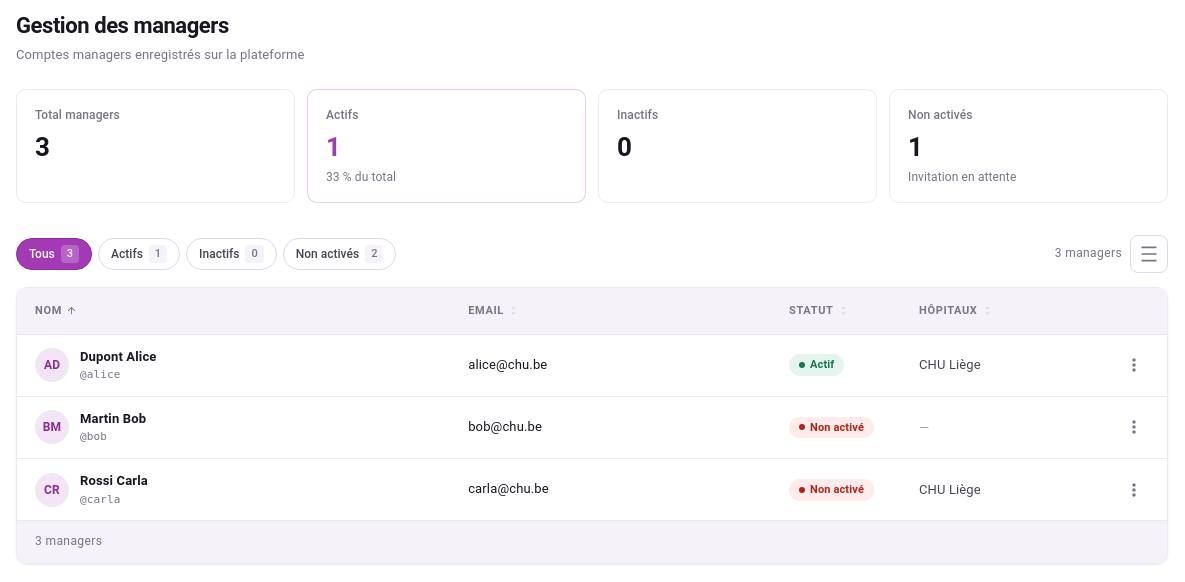
Test: AdminManagersPage › filter chip 'Non activés' n'affiche que Bob et Carla
The image size is (1185, 582).
Expected: the text "Dupont Alice" is shown, [80,348,156,366]
Note: Cliquer sur le chip "Non activés"
Click the button "Non activés 2" at (340, 254), box [283,238,396,270]
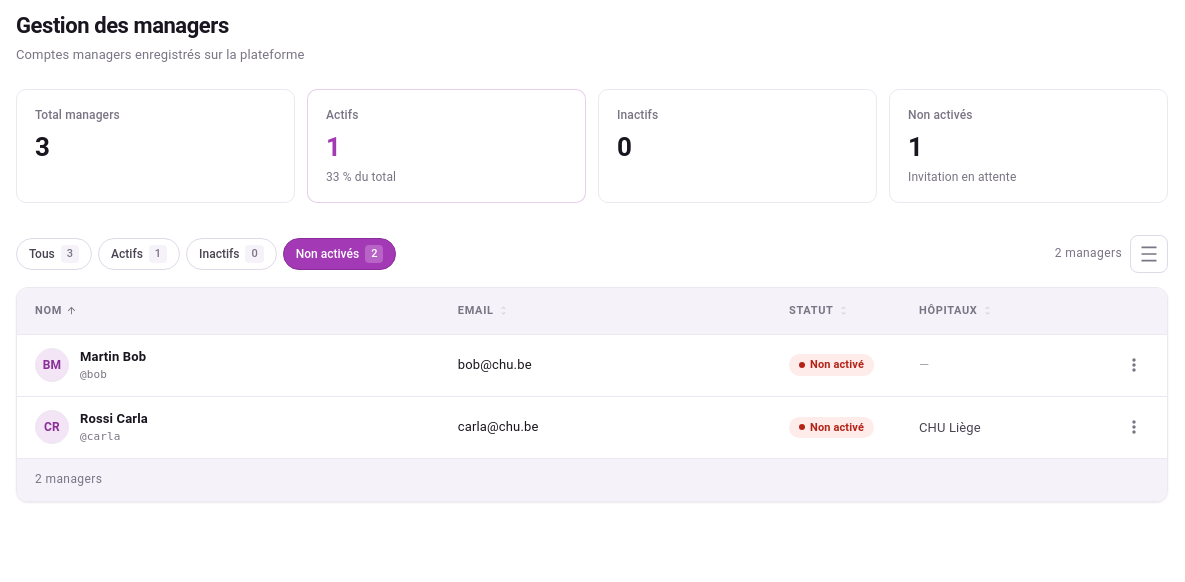
Expected: the text "Martin Bob" is shown, [80,348,146,366]
Now the text "Dupont Alice" is gone
